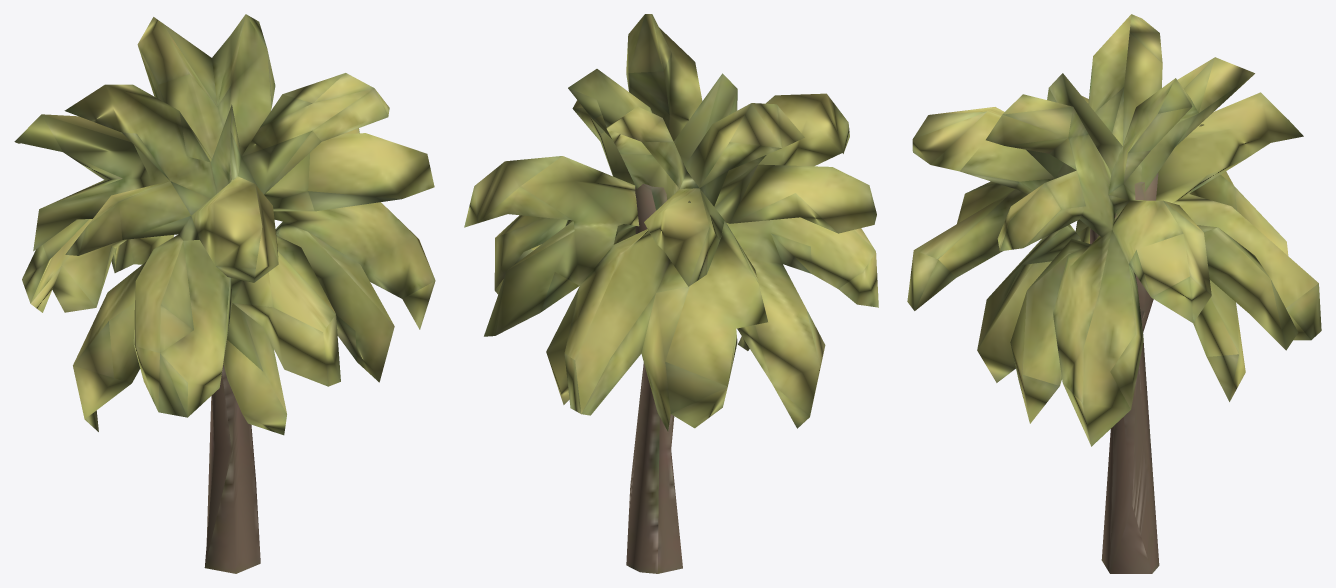
The model's file is palm_c_far.glb.
3 views of the same model, side by side, from view 1: azimuth 30°, elevation 25°; view 2: azimuth 150°, elevation 25°; view 3: azimuth 270°, elevation 25° (orthographic). The views are drawn at different scales.
Visible parts, largest first — view 1: body; view 2: body; view 3: body.
Part boxes in pixels (x1,y1,x2,y2): body: (14, 14, 435, 573); body: (464, 14, 878, 573); body: (907, 14, 1321, 573).
Size of the model in its own units: 3.38 by 4.46 by 3.32.
Materials: 2 (2 with a texture image).
